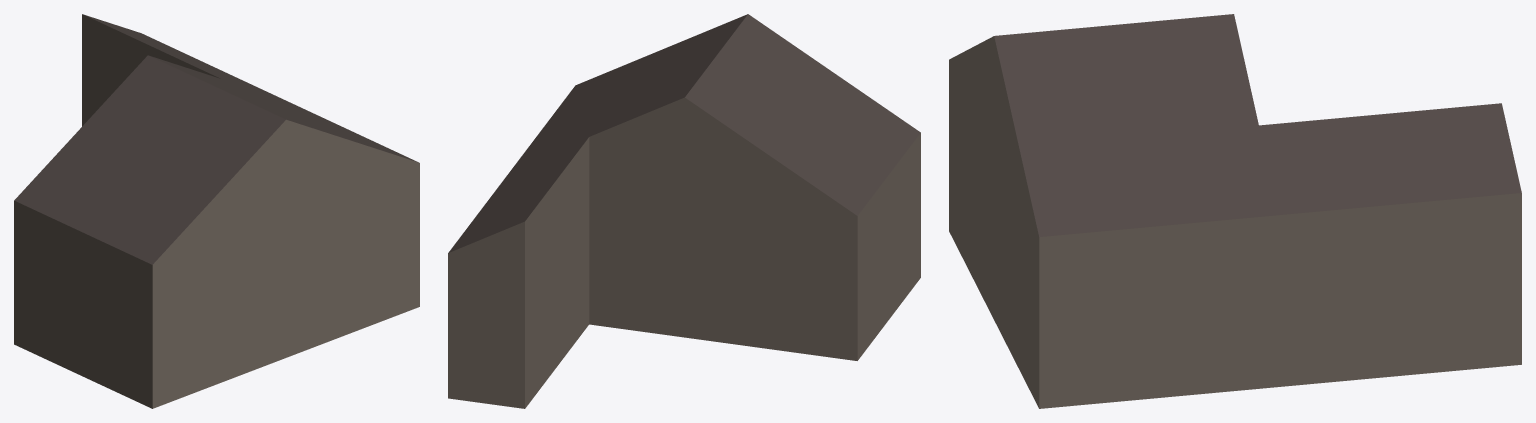
3 views of the same model, side by side, from view 1: azimuth 30°, elevation 25°; view 2: azimuth 150°, elevation 25°; view 3: azimuth 270°, elevation 25° (orthographic). The views are drawn at different scales.
Parts seen in each view (by area): view 1: HP-w1199663722; view 2: HP-w1199663722; view 3: HP-w1199663722.
Part boxes in pixels (box(x1,y1,x2,y2)): HP-w1199663722: box(14, 14, 419, 408); HP-w1199663722: box(448, 14, 920, 408); HP-w1199663722: box(949, 14, 1521, 408).
Bounding box in the file's own units: 22.42 × 14.89 × 27.2.
